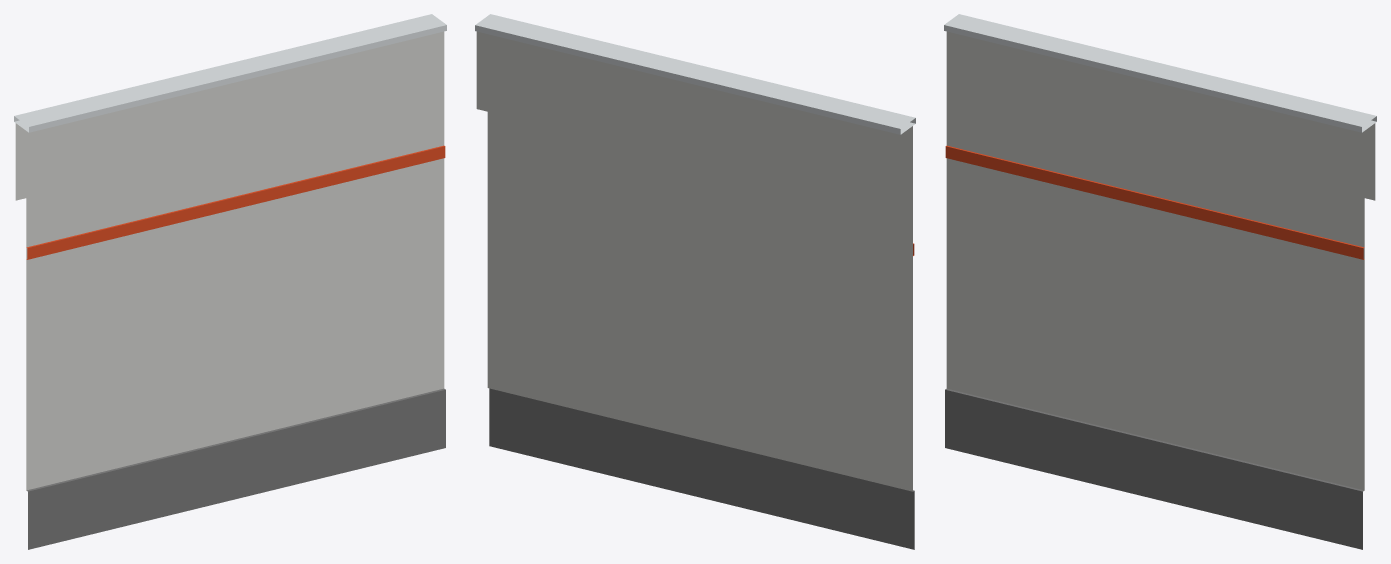
3 views of the same model, side by side, from view 1: azimuth 30°, elevation 25°; view 2: azimuth 150°, elevation 25°; view 3: azimuth 330°, elevation 25° (orthographic).
Parts seen in each view (by area): view 1: a2003/400/base-w2; view 2: a2003/400/base-w2; view 3: a2003/400/base-w2.
Boxes of the visible parts, <box> form: a2003/400/base-w2: <box>14,14,446,549</box>; a2003/400/base-w2: <box>475,14,915,549</box>; a2003/400/base-w2: <box>944,14,1376,549</box>.
Size of the model in its own units: 4.5 by 4.36 by 0.28.
